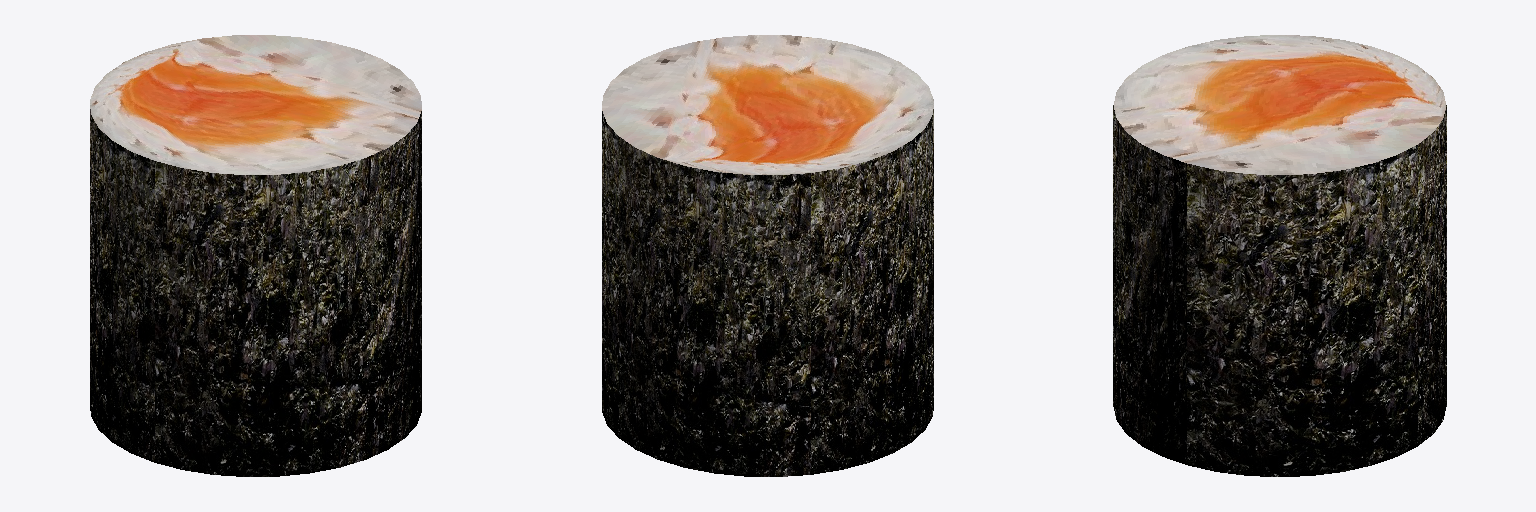
3 renders of one model, left to right at view 1: azimuth 30°, elevation 25°; view 2: azimuth 150°, elevation 25°; view 3: azimuth 270°, elevation 25°, orthographic.
Visible parts, largest first — view 1: Cylinder_Cylinder.002; view 2: Cylinder_Cylinder.002; view 3: Cylinder_Cylinder.002.
Boxes of the visible parts, x1=… form: Cylinder_Cylinder.002: x1=90, y1=35, x2=421, y2=476; Cylinder_Cylinder.002: x1=602, y1=35, x2=933, y2=476; Cylinder_Cylinder.002: x1=1113, y1=35, x2=1446, y2=476.
Bounding box in the file's own units: 0.2572 × 0.2572 × 0.2572.
Materials: 2 (2 with a texture image).